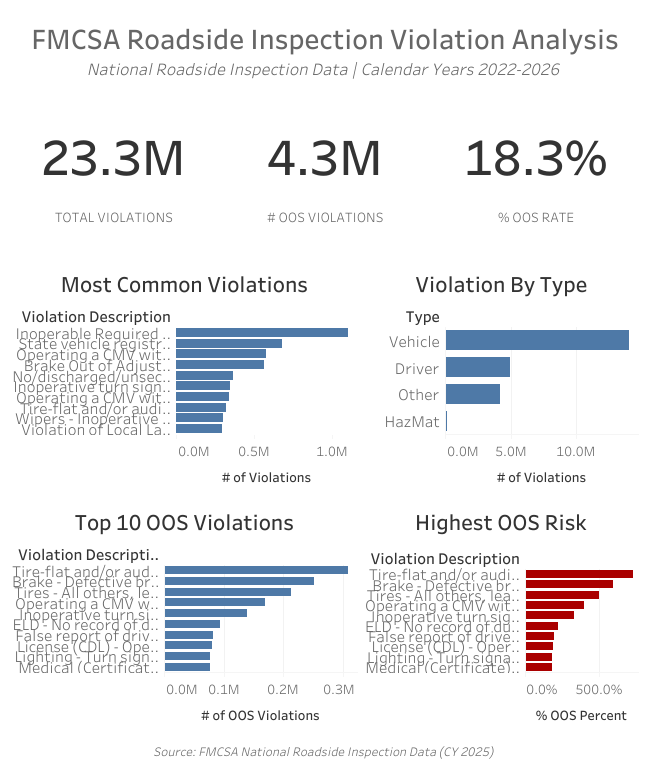

This screenshot's page, from the dashboard's own definition file:
{"tool":"tableau","page":{"name":"Dashboard Final","canvas":[650,860],"ordinal":2},"visuals":[{"type":"text","box":[8,8,634,91]},{"type":"worksheet","title":"KPI - Total Violations","mark":"Automatic","box":[8,99,212,169]},{"type":"worksheet","title":"KPI- Out-of-Service Violations","mark":"Automatic","box":[220,99,211,169]},{"type":"worksheet","title":"KPI- Out-of-Service Rate","mark":"Automatic","box":[431,99,211,169]},{"type":"worksheet","title":"Top 10 Violations","mark":"Automatic","rows":["Violation Description"],"cols":["# of Violations"],"box":[8,268,353,279]},{"type":"worksheet","title":"Violation Type Breakdown","mark":"Automatic","rows":["Type"],"cols":["# of Violations"],"box":[361,268,281,279]},{"type":"worksheet","title":"Top 10 OOS Violations","mark":"Automatic","rows":["Violation Description"],"cols":["# of OOS Violations"],"box":[8,547,353,275]},{"type":"worksheet","title":"Highest OOS Percentage","mark":"Automatic","rows":["Violation Description"],"cols":["% OOS Percent"],"box":[361,547,281,275]},{"type":"text","box":[8,822,634,25]}]}

Visuals, with their boxes on the page's 650x860 design canvas (x1, y1, x2, y2). These are canvas units, not pixel positions in the 649x774 screenshot, which may show the page scaled, cropped or inside an application window:
text: 8:8:642:99
"KPI - Total Violations" worksheet: 8:99:220:268
"KPI- Out-of-Service Violations" worksheet: 220:99:431:268
"KPI- Out-of-Service Rate" worksheet: 431:99:642:268
"Top 10 Violations" worksheet: 8:268:361:547
"Violation Type Breakdown" worksheet: 361:268:642:547
"Top 10 OOS Violations" worksheet: 8:547:361:822
"Highest OOS Percentage" worksheet: 361:547:642:822
text: 8:822:642:847
